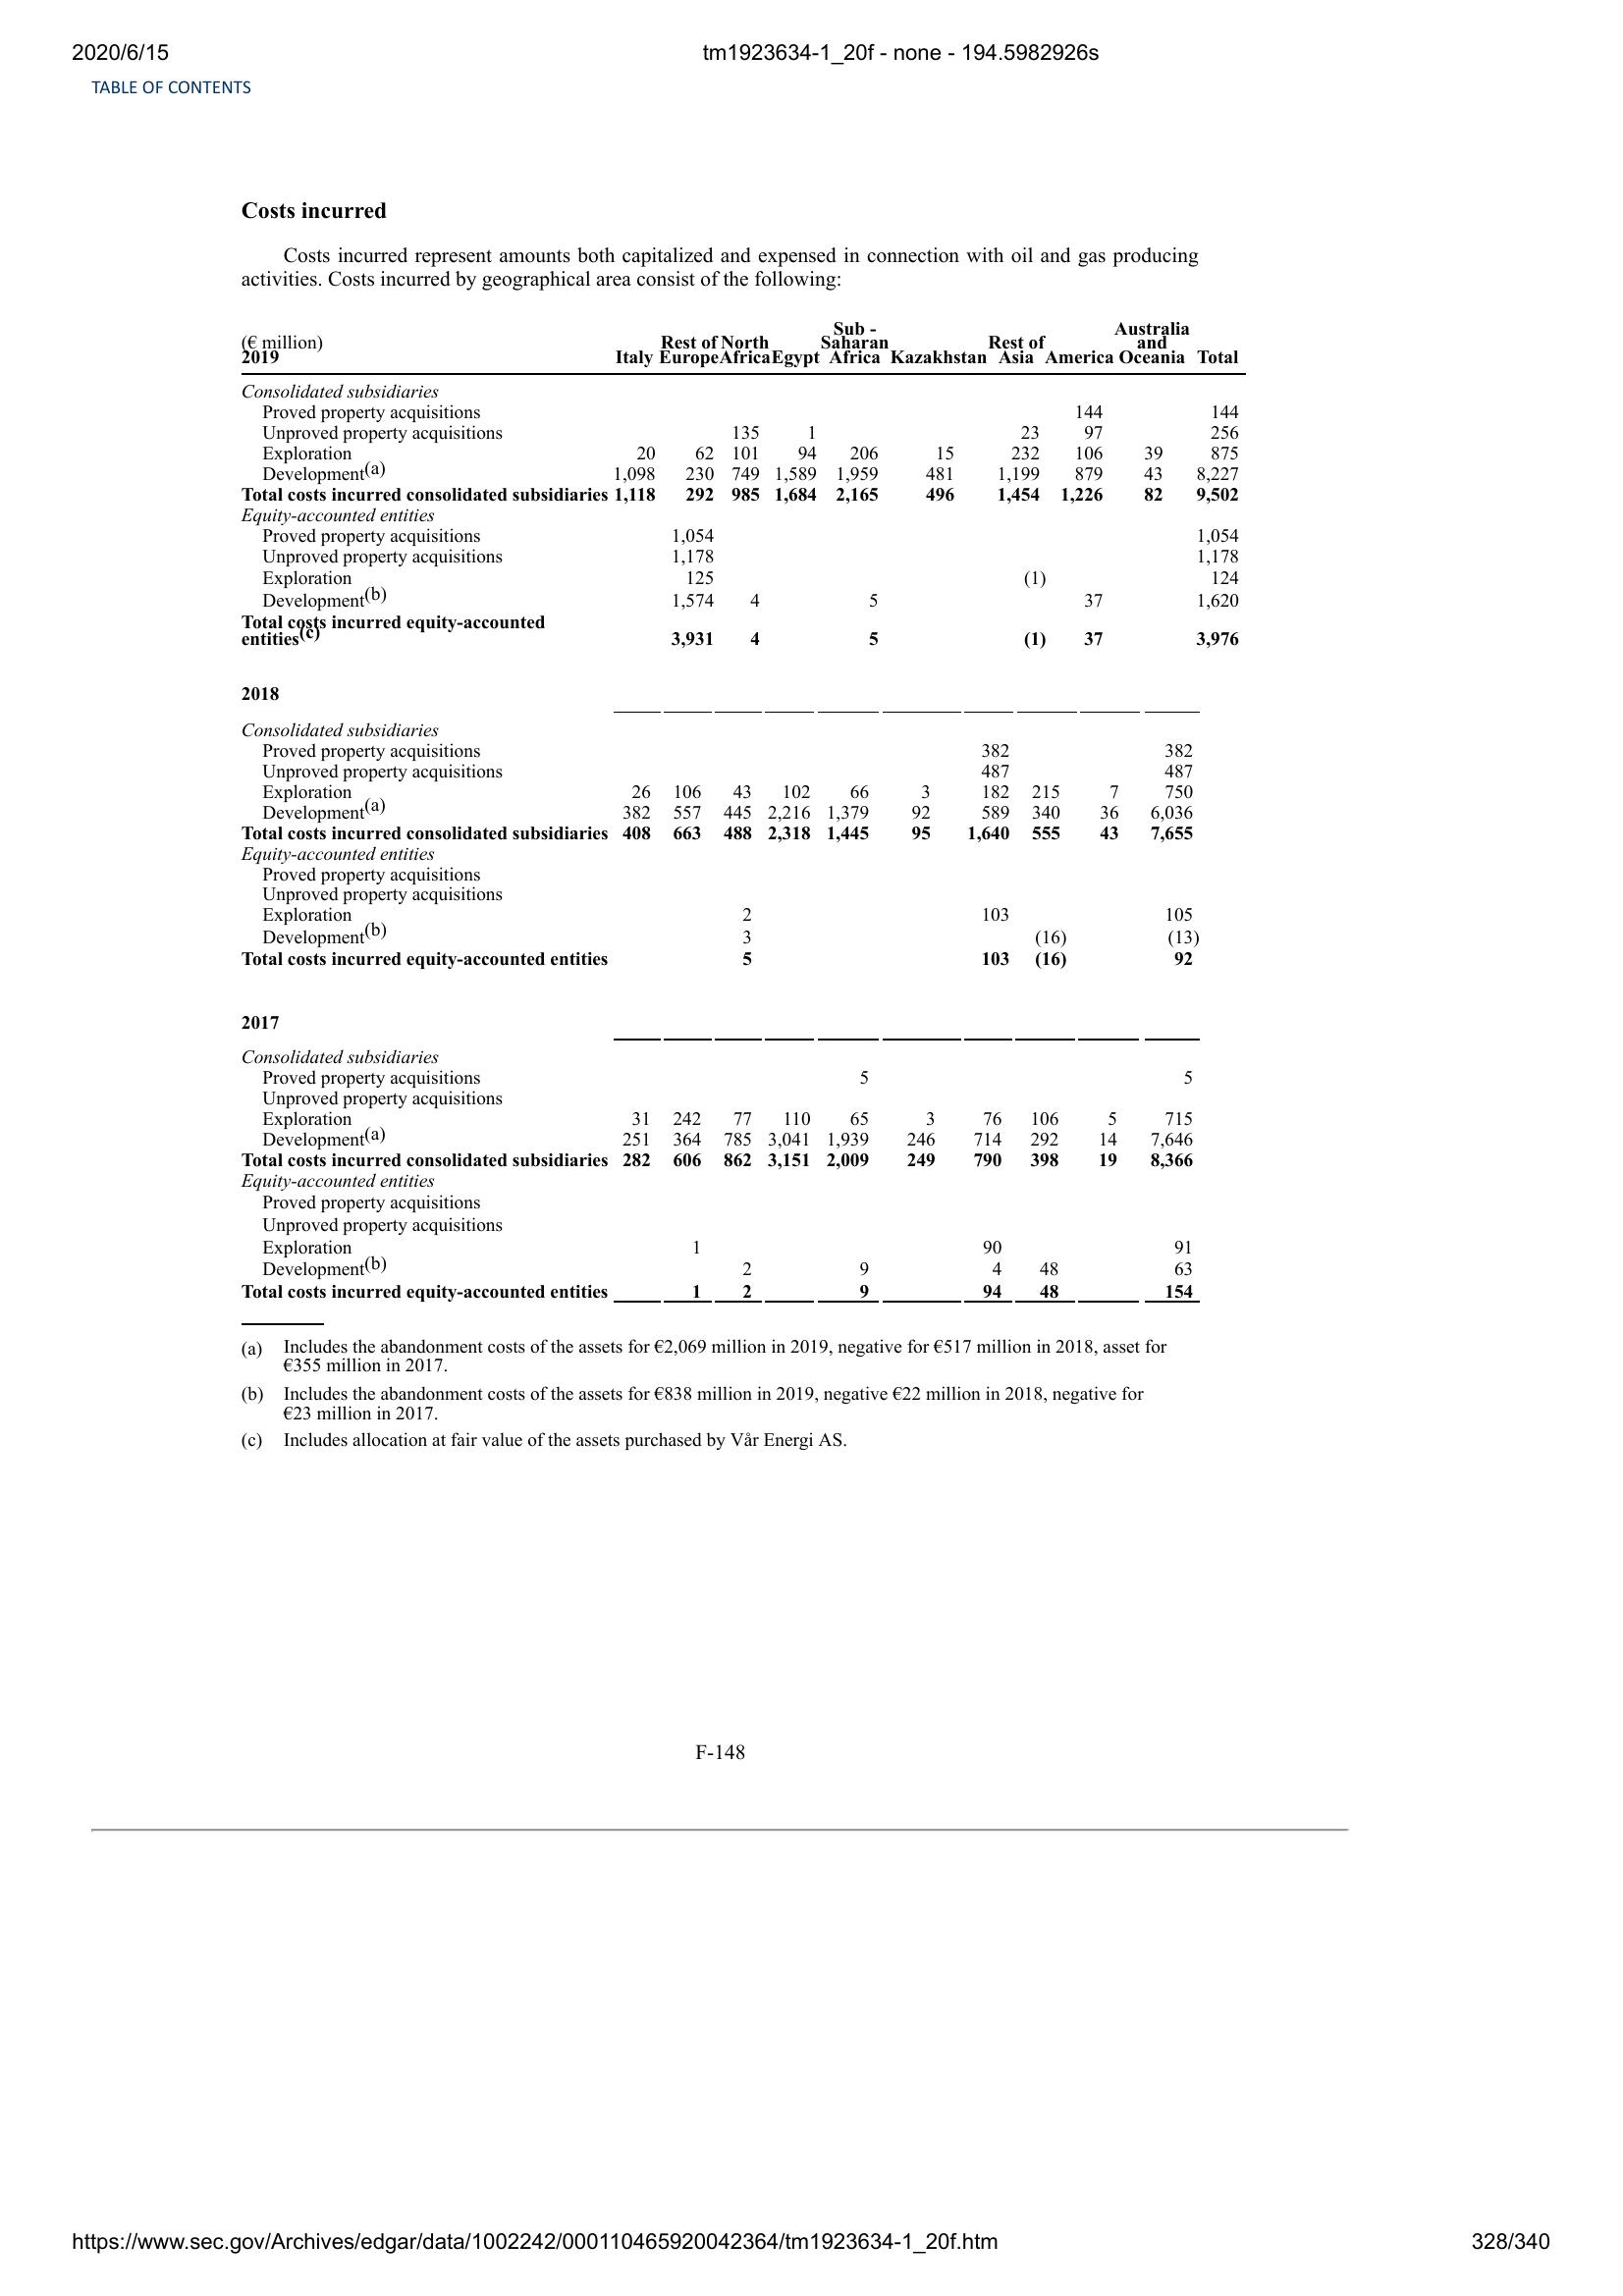table: (227, 312, 1245, 1311)
